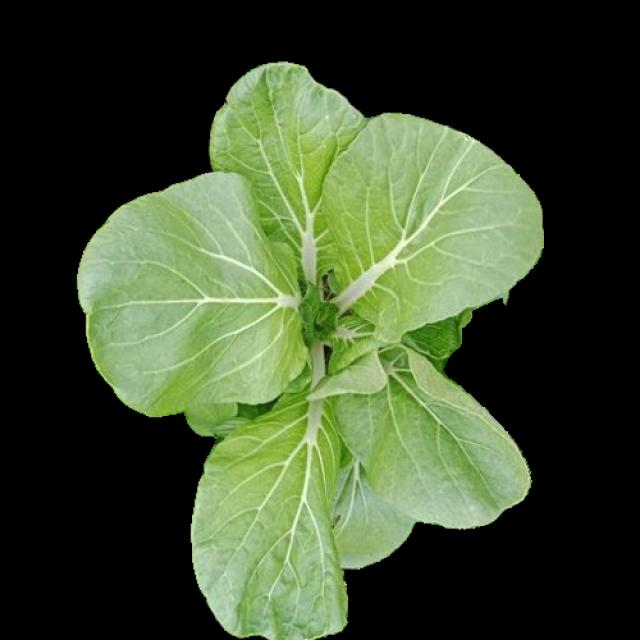healthy: (75, 63, 542, 637)
mature: (78, 65, 545, 640)
